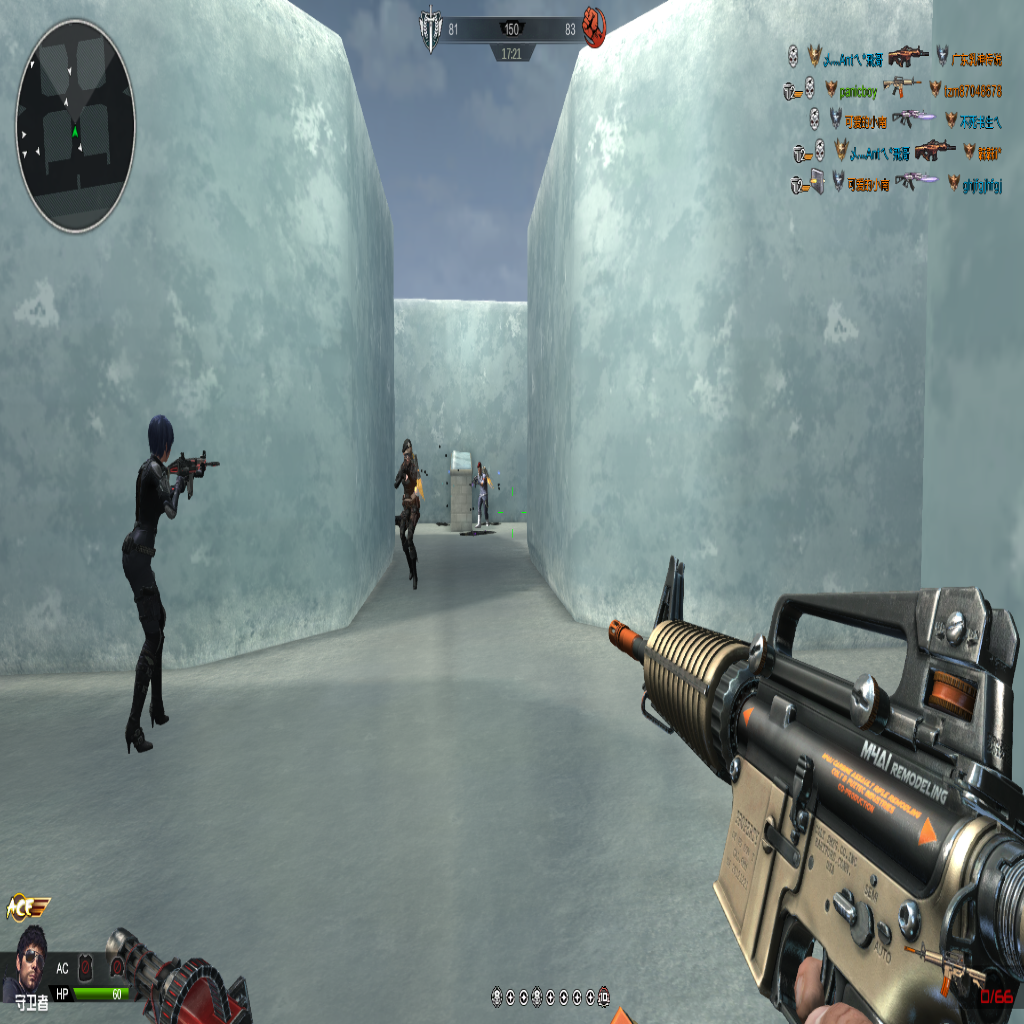ct: (122, 420, 186, 757)
tt: (476, 464, 492, 525)
